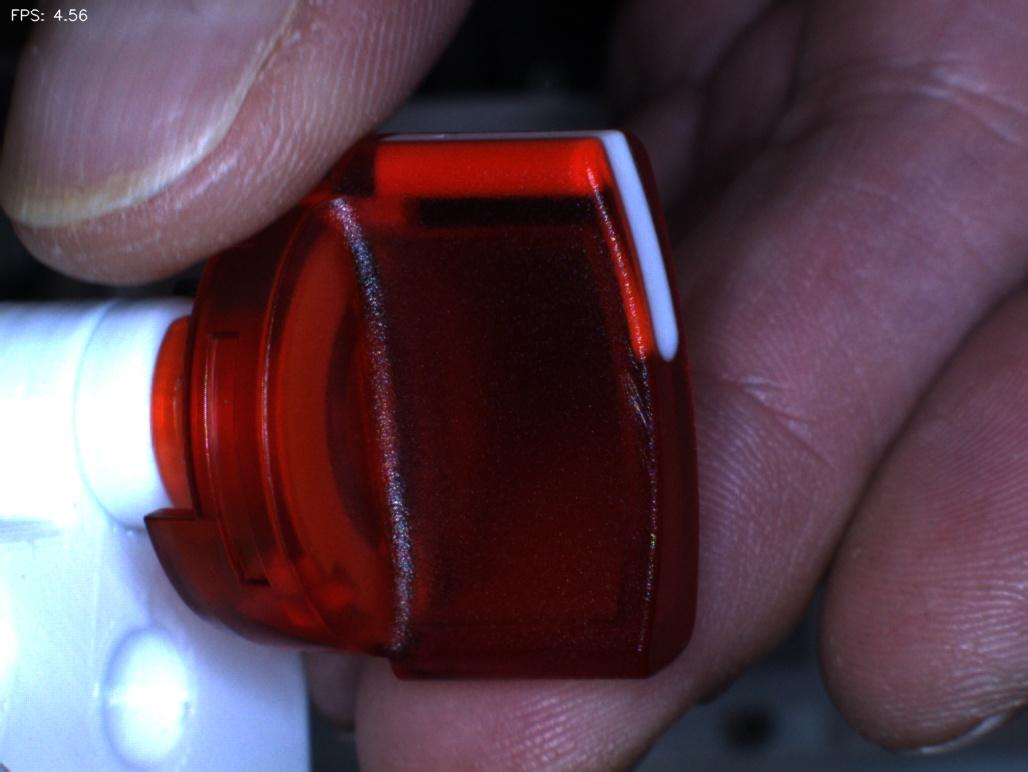Givrage: (587, 331, 670, 474)
